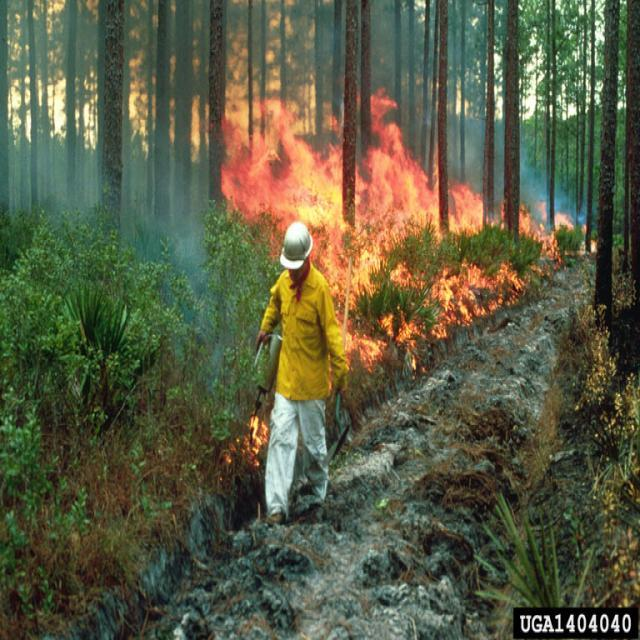Fire: (220, 86, 596, 467)
